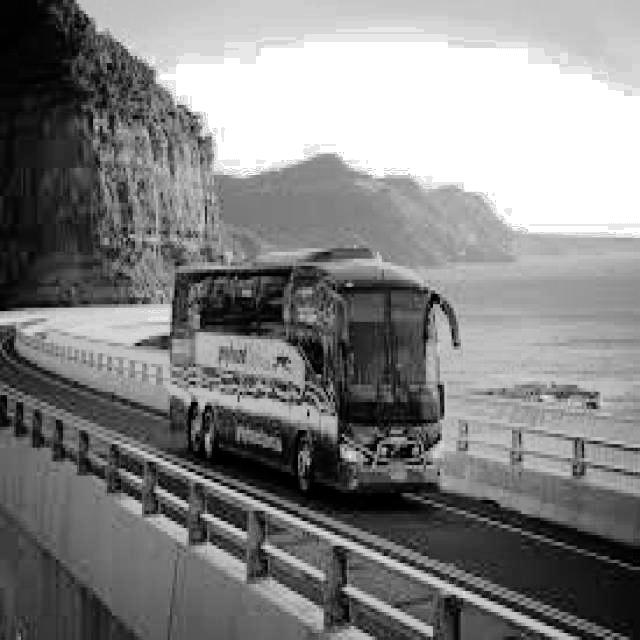Bus: (159, 240, 463, 508)
